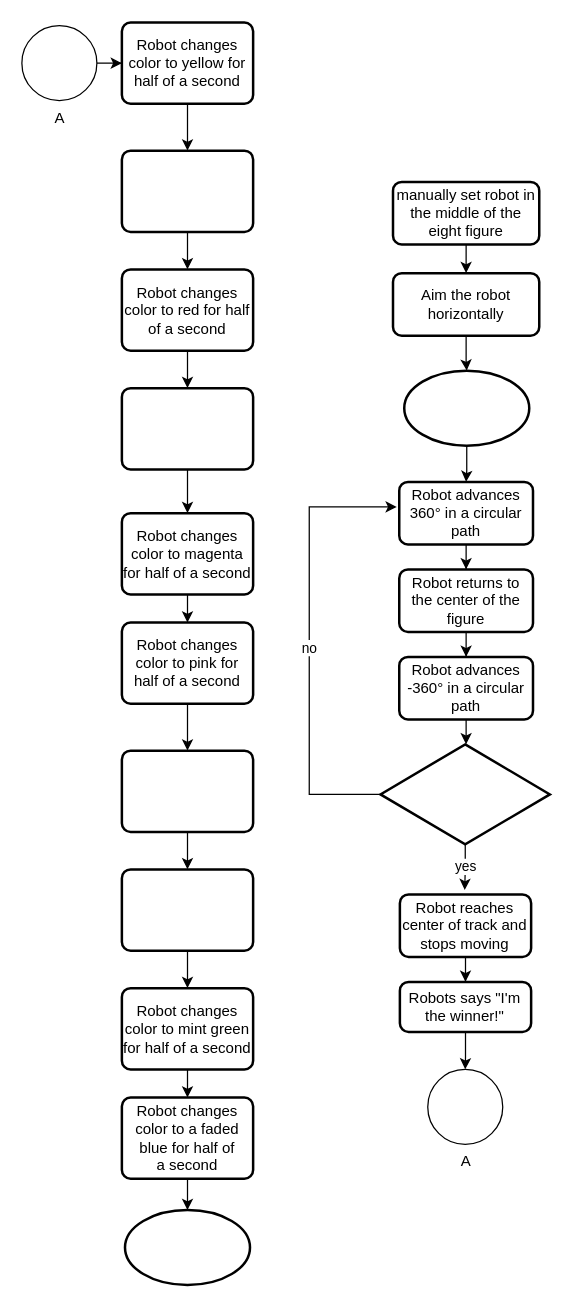
Some shapes in this 573 by 1308 pixel diagram are drawn without their labels. Each missing label, with the centre of its shape:
End: [187,1247]
has robot traveled the full track five times?: [464,793]
Robot changes color to blue for half of a second: [187,790]
Robot changes color to cyan for half of a second: [187,428]
Robot changes color to green for half of a second: [187,190]
Robot changes color to salmon for half of a second: [187,909]
Start: [466,407]
